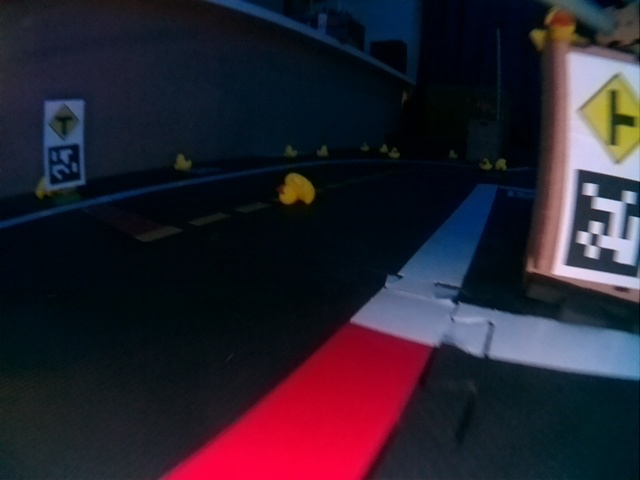Duckie: (277, 174, 315, 204), (283, 145, 297, 157), (316, 145, 328, 156), (479, 158, 490, 169), (495, 159, 507, 169), (390, 147, 398, 158), (360, 142, 369, 149)
Intersection sign: (577, 68, 639, 163), (47, 103, 82, 141)
QR code: (562, 168, 638, 273), (48, 145, 81, 186)
